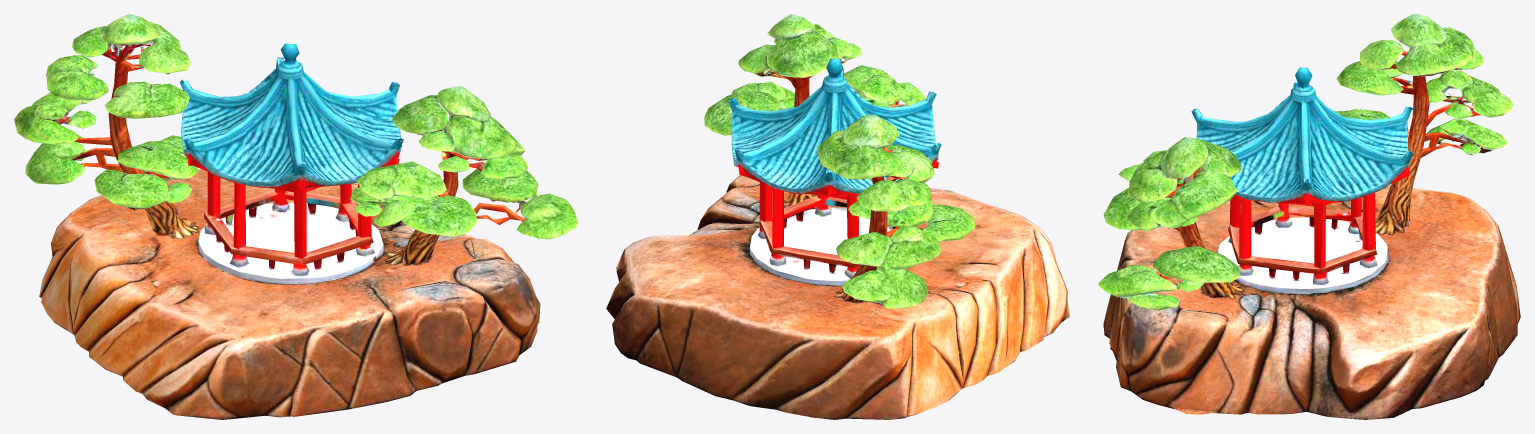
The model's file is ql_pavilion_lo.glb.
3 renders of one model, left to right at view 1: azimuth 30°, elevation 25°; view 2: azimuth 150°, elevation 25°; view 3: azimuth 270°, elevation 25°, orthographic. The views are drawn at different scales.
Visible parts, largest first — view 1: ql_pavilion; view 2: ql_pavilion; view 3: ql_pavilion.
Boxes of the visible parts, left/top/right/bottom form: ql_pavilion: left=14, top=14, right=577, bottom=419; ql_pavilion: left=606, top=14, right=1069, bottom=419; ql_pavilion: left=1098, top=14, right=1520, bottom=419.
Bounding box in the file's own units: 9.98 × 6.99 × 9.97.
Materials: 1 (1 with a texture image).
